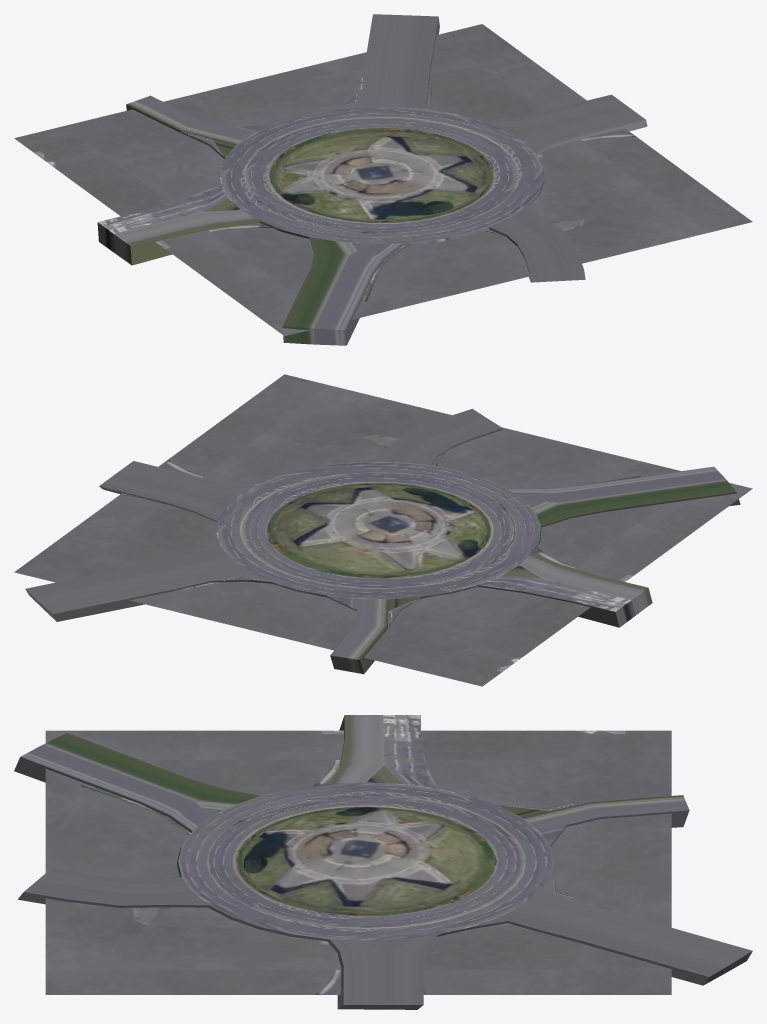
File: road.fbx
3 renders of one model, top to bottom at view 1: azimuth 30°, elevation 25°; view 2: azimuth 150°, elevation 25°; view 3: azimuth 270°, elevation 25°, orthographic. The views are drawn at different scales.
Visible parts, largest first — view 1: Sphere.001, Plane; view 2: Sphere.001, Plane; view 3: Plane, Sphere.001.
Boxes of the visible parts, x1,y1,x2,y2 form: Sphere.001: (97, 14, 647, 345); Plane: (14, 24, 752, 336); Sphere.001: (25, 408, 740, 674); Plane: (14, 374, 752, 686); Plane: (45, 730, 671, 994); Sphere.001: (14, 715, 752, 1009).
Size of the model in its own units: 22050 by 1006 by 23614.
